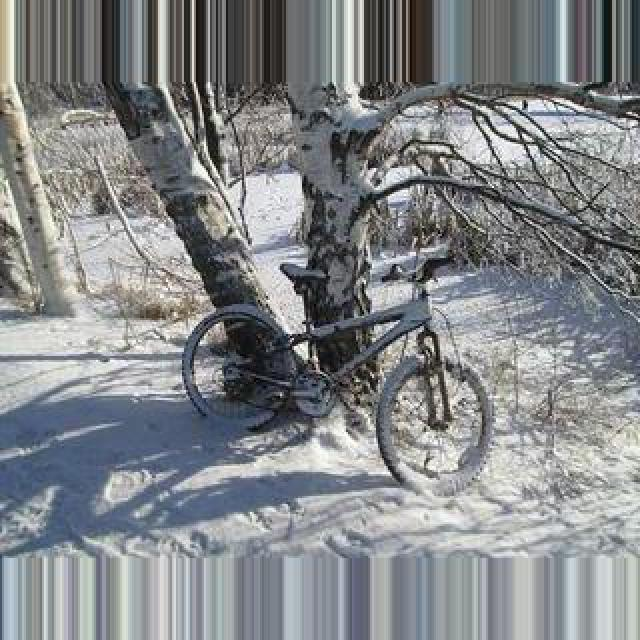Person: (176, 259, 492, 479)
